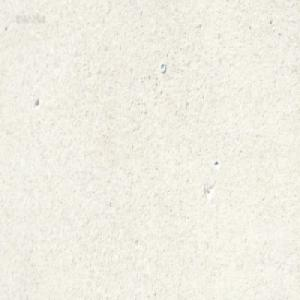Washer: (159, 62, 166, 73)
